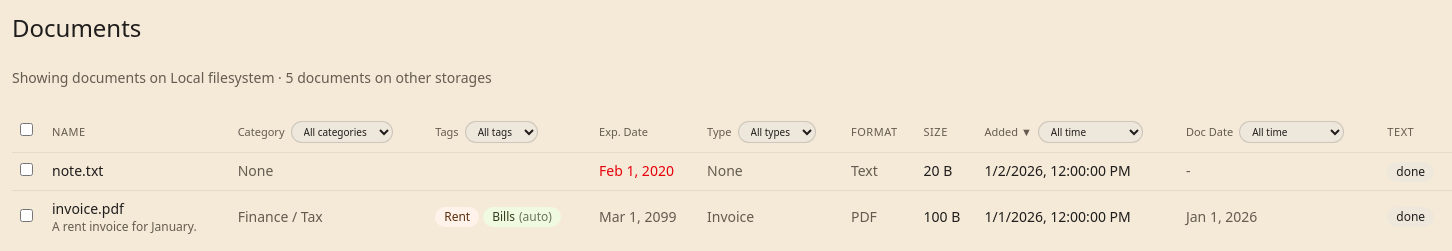
Test case: DocumentsPage › filters by document type using the header dropdown and shows a clearable active filter
Expected: the link "invoice.pdf" is shown, [52,198,124,218]
Step 1. Select "Invoice" in the dropdown named "Filter by type" → (776, 132), box [738,121,816,143]
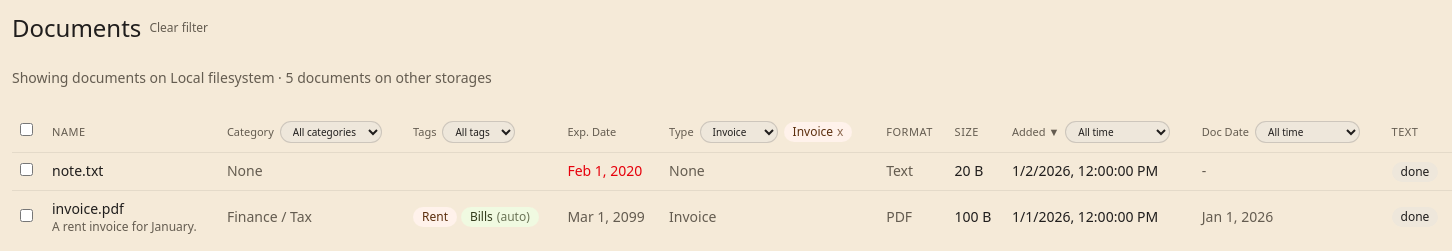
Now the button named "Clear type filter" is shown, box [837,124,844,140]
